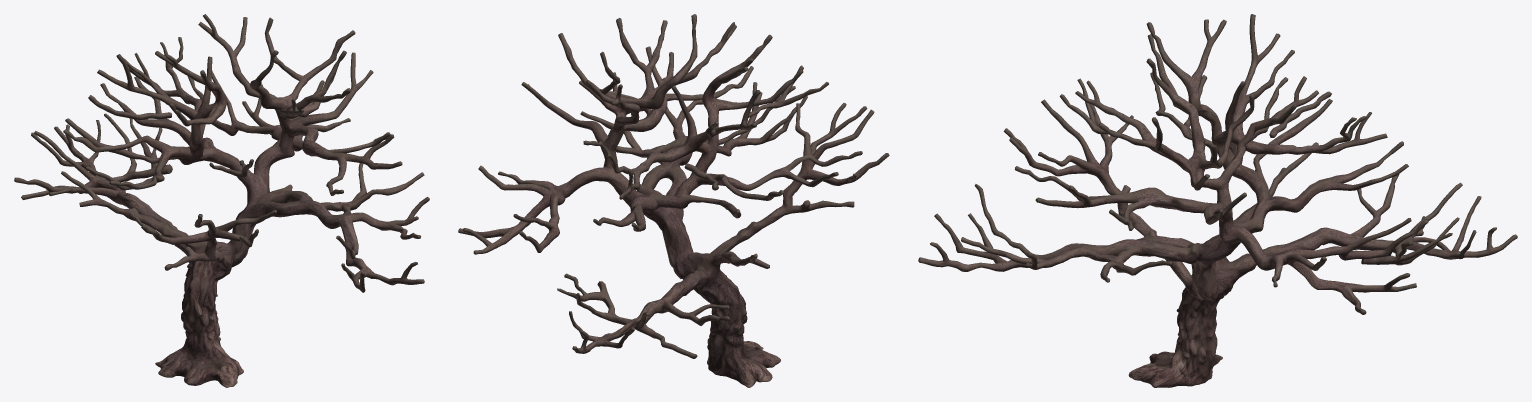
The picture shows the model from 3 angles, left to right: view 1: azimuth 30°, elevation 25°; view 2: azimuth 150°, elevation 25°; view 3: azimuth 270°, elevation 25°; orthographic projection. The views are drawn at different scales.
Visible parts, largest first — view 1: tripo_node_fb38b0f3-95e7-4cda-b0e5-9101f8e434e1; view 2: tripo_node_fb38b0f3-95e7-4cda-b0e5-9101f8e434e1; view 3: tripo_node_fb38b0f3-95e7-4cda-b0e5-9101f8e434e1.
Part boxes in pixels (box(x1,y1,x2,y2)): tripo_node_fb38b0f3-95e7-4cda-b0e5-9101f8e434e1: box(14, 14, 429, 387); tripo_node_fb38b0f3-95e7-4cda-b0e5-9101f8e434e1: box(458, 14, 889, 387); tripo_node_fb38b0f3-95e7-4cda-b0e5-9101f8e434e1: box(918, 14, 1517, 387).
Bounding box in the file's own units: 0.6239 × 0.6365 × 1.
1 material, 1 textured.
